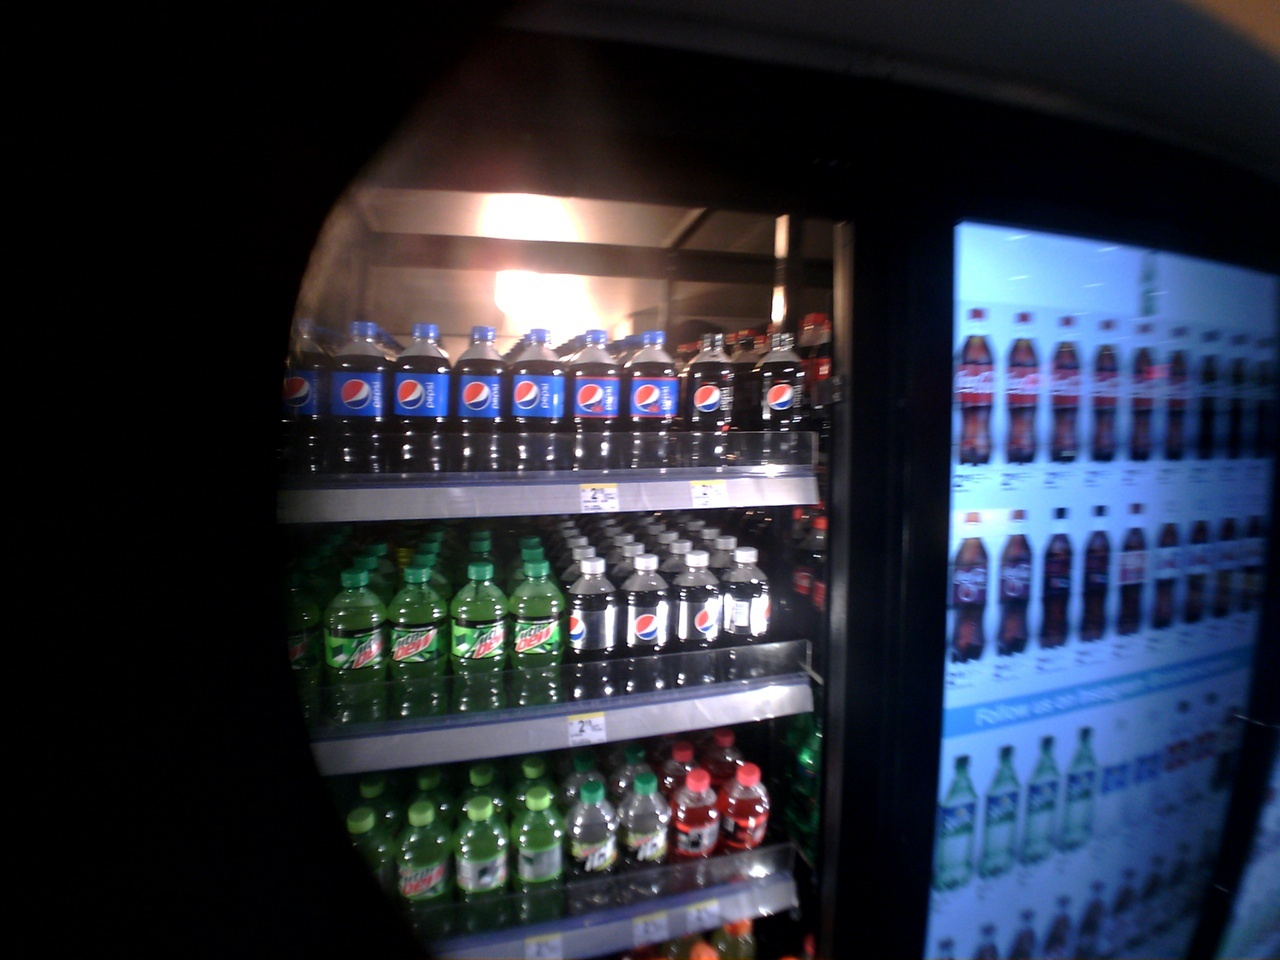shelf: (265, 510, 827, 746), (283, 299, 829, 510), (290, 728, 800, 939)
